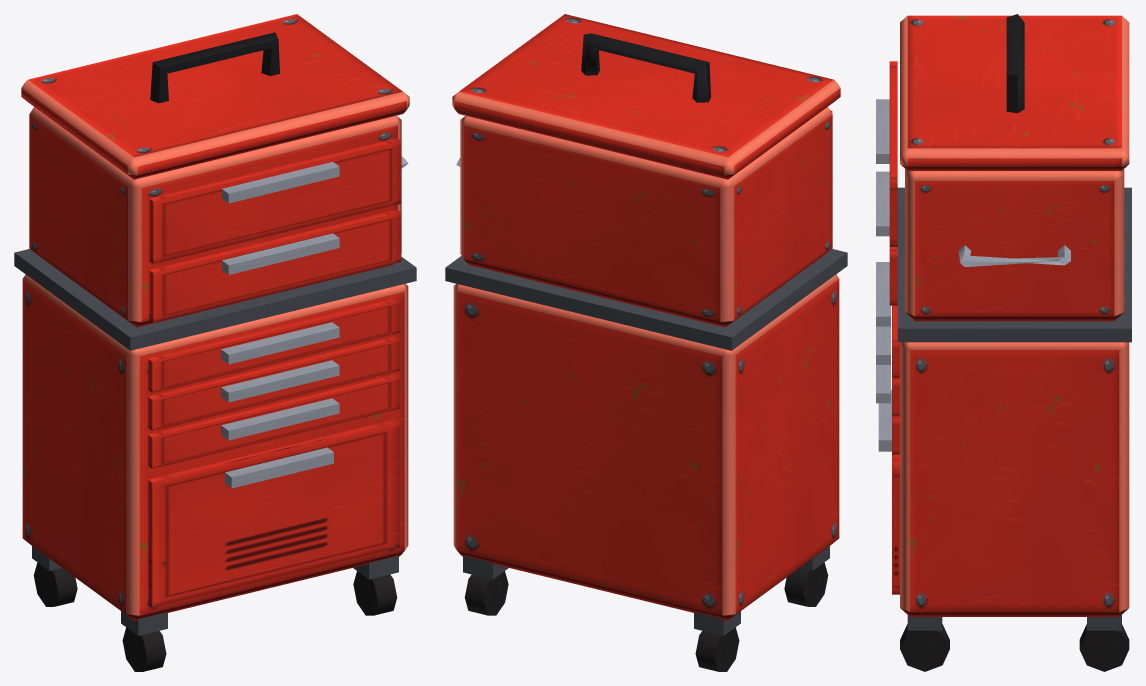
The model's file is Toolbox_Red.fbx.
The picture shows the model from 3 angles, left to right: view 1: azimuth 30°, elevation 25°; view 2: azimuth 150°, elevation 25°; view 3: azimuth 270°, elevation 25°; orthographic projection.
Parts seen in each view (by area): view 1: Toolbox_Red_Body; view 2: Toolbox_Red_Body; view 3: Toolbox_Red_Body.
Part boxes in pixels (bbox=[...]): Toolbox_Red_Body: bbox=[14, 14, 416, 671]; Toolbox_Red_Body: bbox=[445, 14, 847, 671]; Toolbox_Red_Body: bbox=[876, 14, 1131, 671].
Size of the model in its own units: 0.7242 by 1.25 by 0.513.
1 material, 1 textured.
